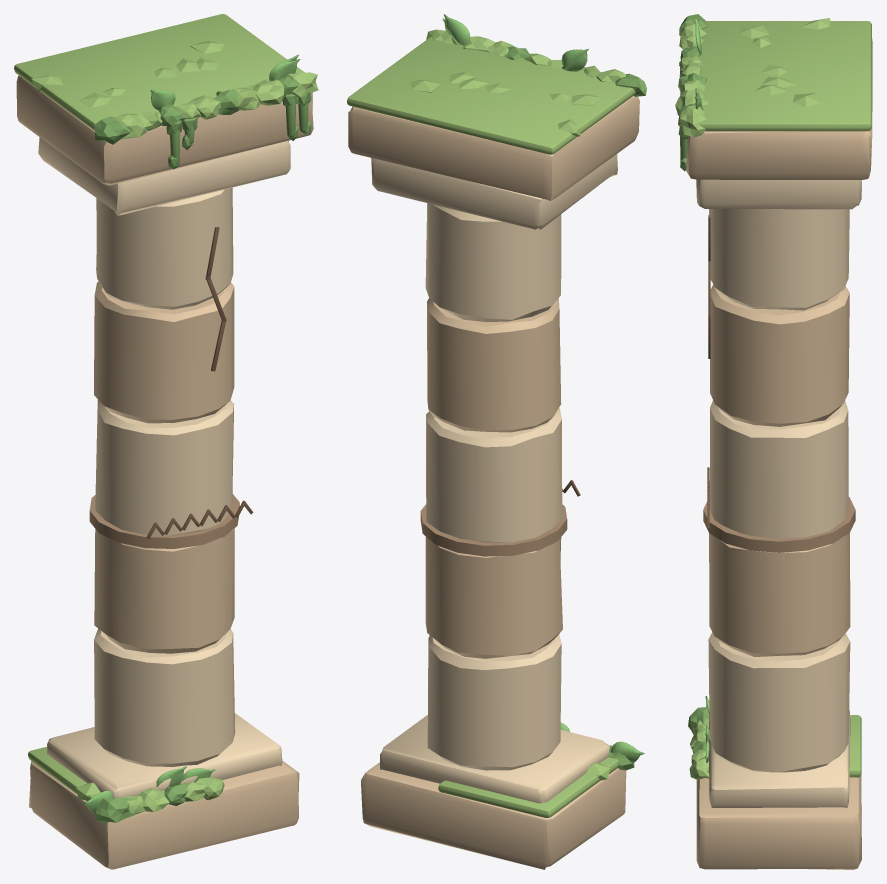
File: bg_pillar.glb
The picture shows the model from 3 angles, left to right: view 1: azimuth 30°, elevation 25°; view 2: azimuth 150°, elevation 25°; view 3: azimuth 270°, elevation 25°; orthographic projection. The views are drawn at different scales.
Visible parts, largest first — view 1: bg_pillar; view 2: bg_pillar; view 3: bg_pillar.
Boxes of the visible parts, bbox=[...] form: bg_pillar: bbox=[14, 14, 318, 869]; bg_pillar: bbox=[347, 14, 646, 869]; bg_pillar: bbox=[675, 14, 872, 869].
Bounding box in the file's own units: 1.29 × 4.19 × 0.9603.
